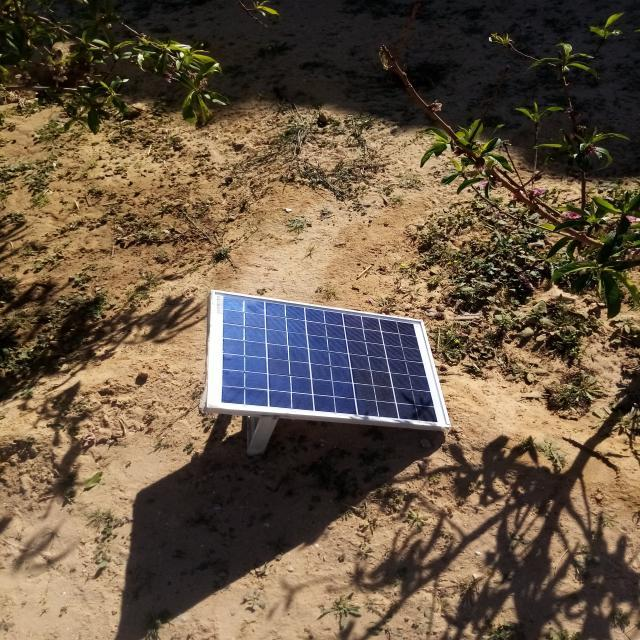no faulty: (206, 291, 450, 428)
